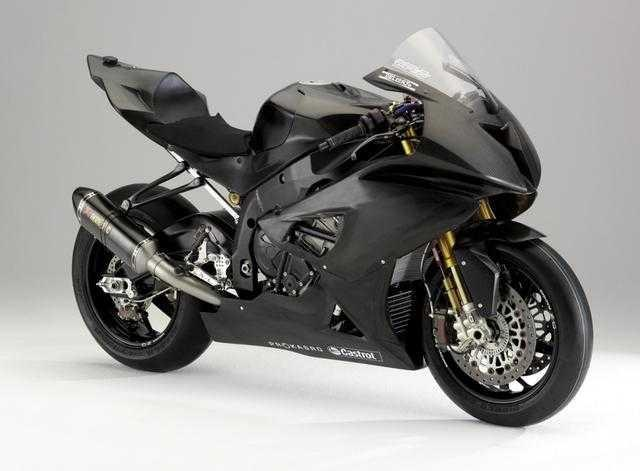motorbike: (71, 27, 592, 428)
